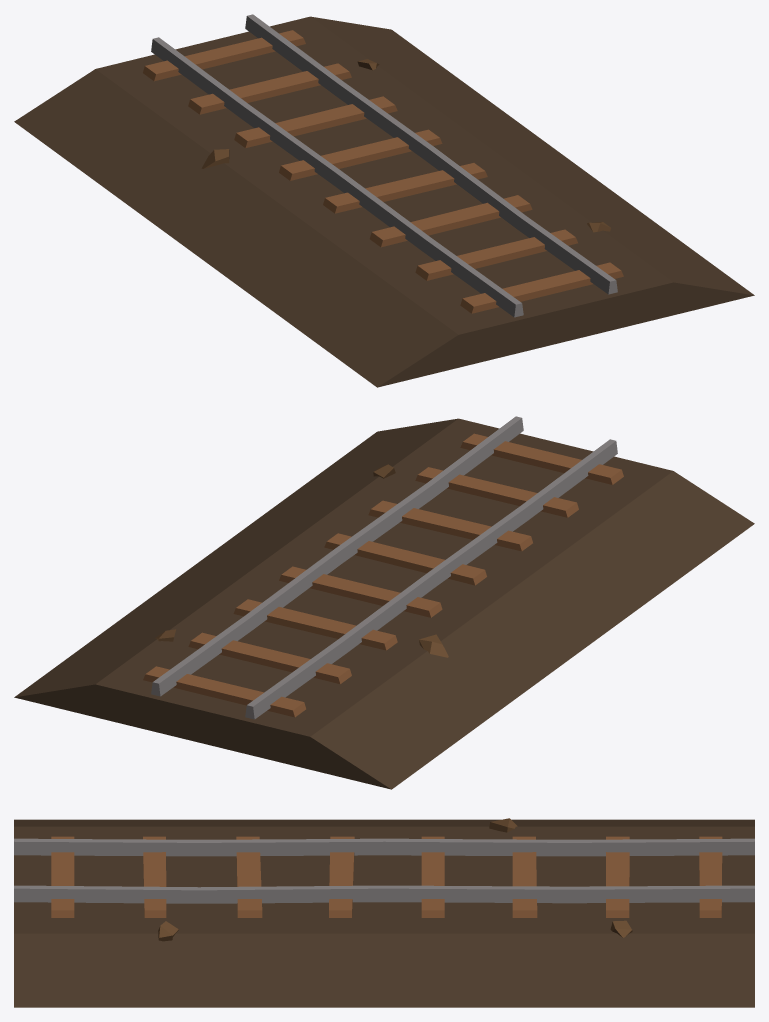
The model's file is western_rail-straight-bottom.fbx.
3 views of the same model, one above another, from view 1: azimuth 30°, elevation 25°; view 2: azimuth 150°, elevation 25°; view 3: azimuth 270°, elevation 25° (orthographic).
Parts seen in each view (by area): view 1: western_rail_straight_bottom; view 2: western_rail_straight_bottom; view 3: western_rail_straight_bottom.
Boxes of the visible parts, x1,y1,x2,y2 form: western_rail_straight_bottom: (14,14,754,387); western_rail_straight_bottom: (14,416,754,789); western_rail_straight_bottom: (14,818,754,1007).
Size of the model in its own units: 120 by 14.92 by 200.
